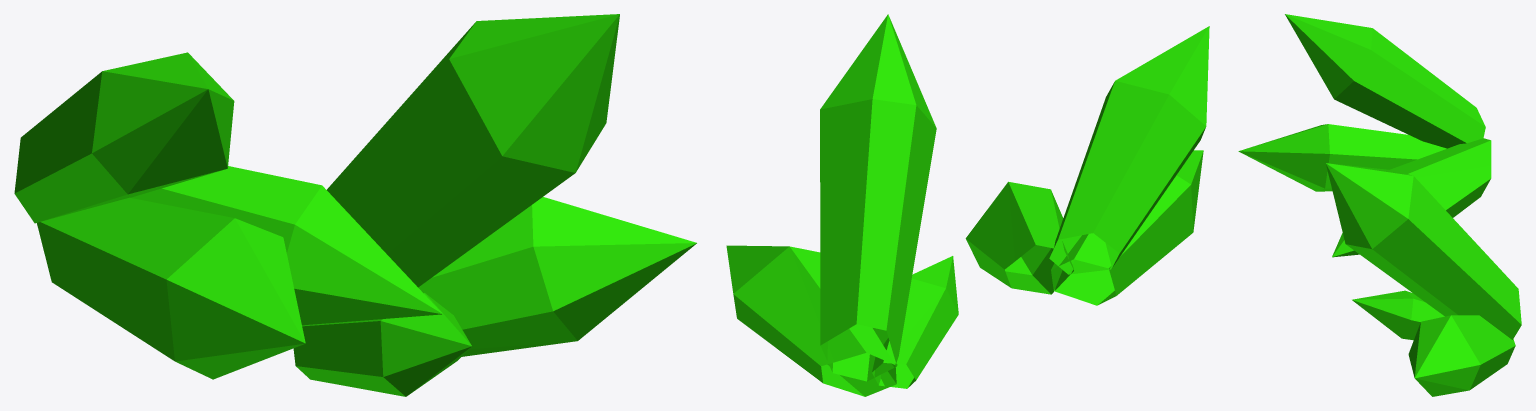
Rendered from cave_crystal_wall2.glb.
3 views of the same model, side by side, from view 1: azimuth 30°, elevation 25°; view 2: azimuth 150°, elevation 25°; view 3: azimuth 270°, elevation 25° (orthographic). The views are drawn at different scales.
Parts seen in each view (by area): view 1: Crystal-wall02-col; view 2: Crystal-wall02-col; view 3: Crystal-wall02-col.
Boxes of the visible parts, x1,y1,x2,y2 form: Crystal-wall02-col: [14, 14, 696, 396]; Crystal-wall02-col: [726, 14, 1209, 396]; Crystal-wall02-col: [1238, 14, 1521, 396].
Size of the model in its own units: 1.71 by 1.24 by 1.2.
